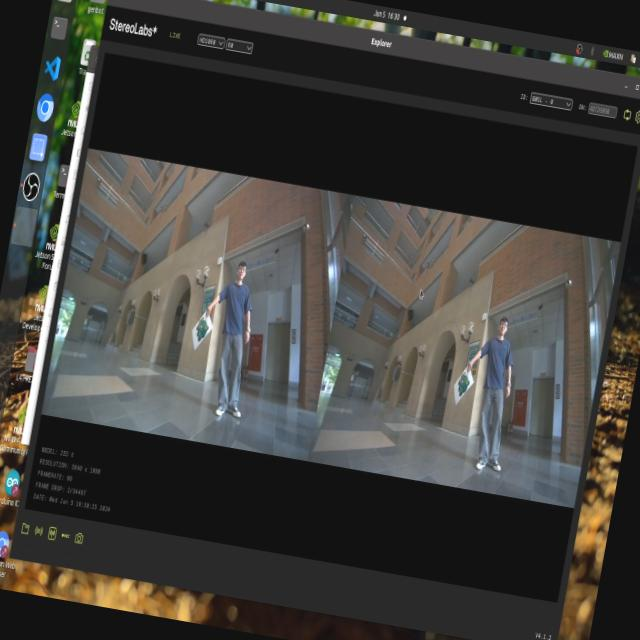green: (190, 315, 213, 346), (453, 368, 470, 399)
